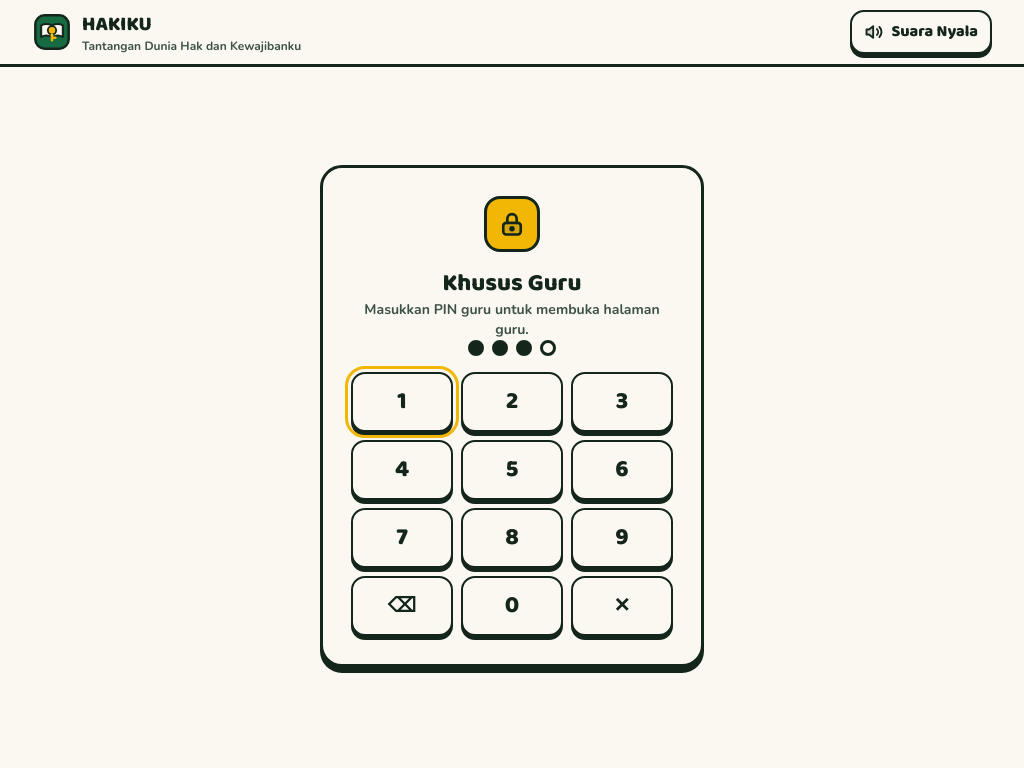
Aplikasi HAKIKU hybrid › halaman guru terkunci PIN: PIN salah ditolak, PIN benar membuka daftar tantangan
Earlier steps of the test are not shown.
Click the button "1". click: x=402, y=402
box: [351,372,453,432]
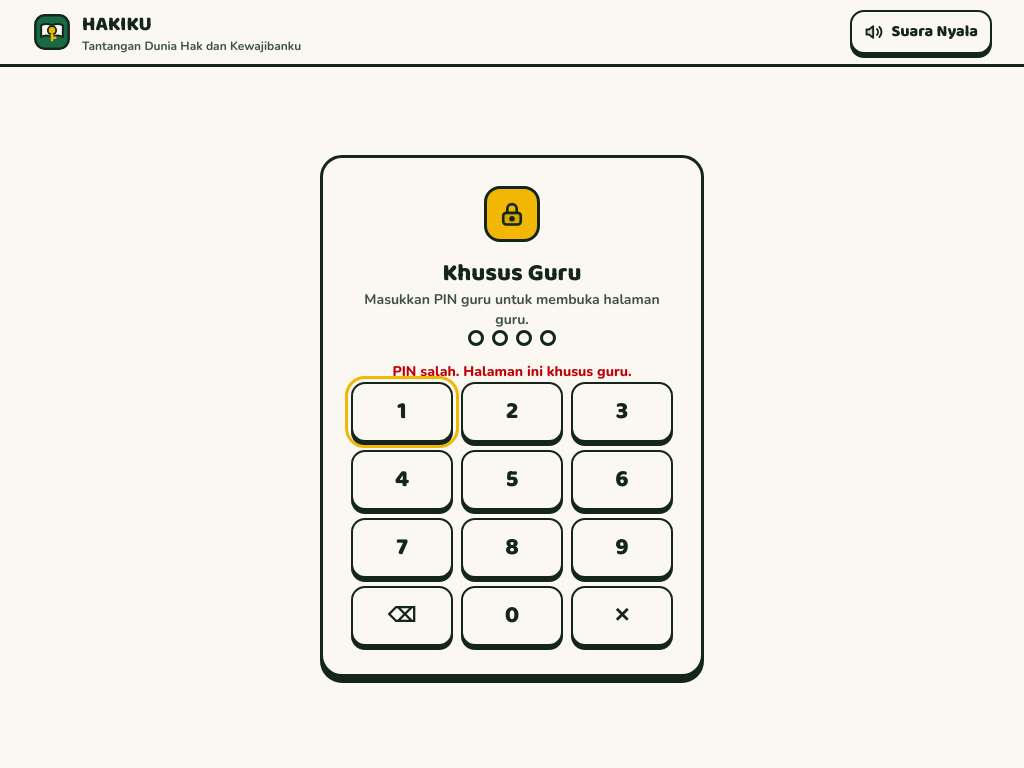
Check: the message shows "PIN salah", box [392,362,632,381]
Click the button "8". click: x=512, y=548
box: [461,518,563,578]
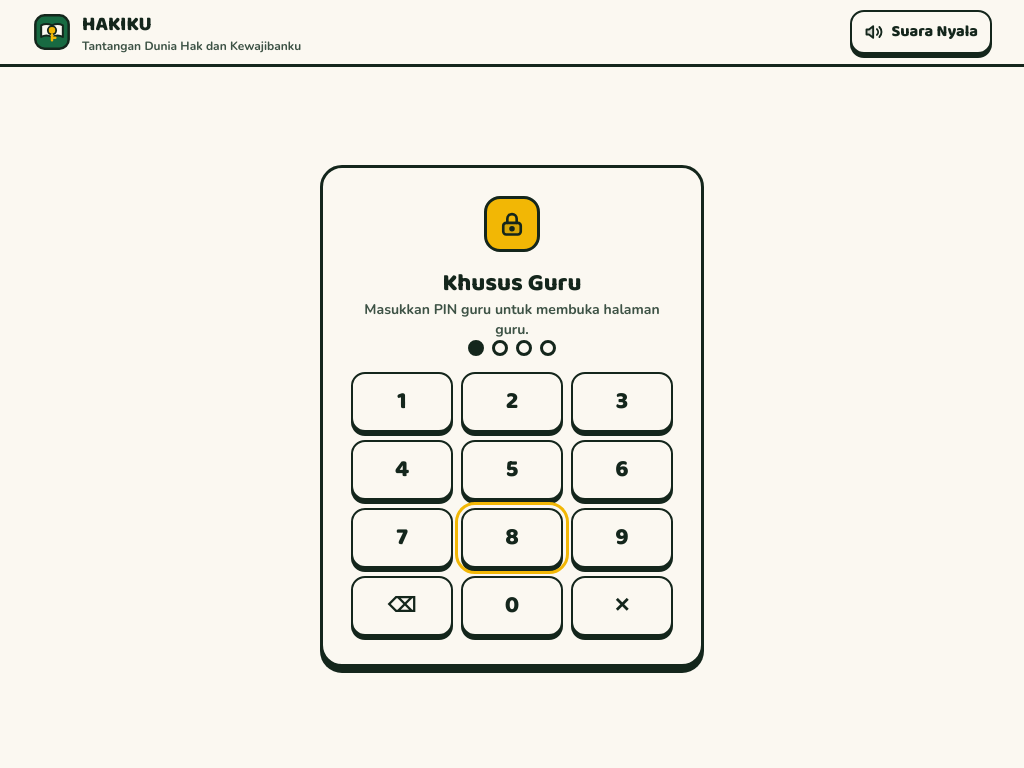
Click the button "2". click: x=512, y=402
box: [461,372,563,432]
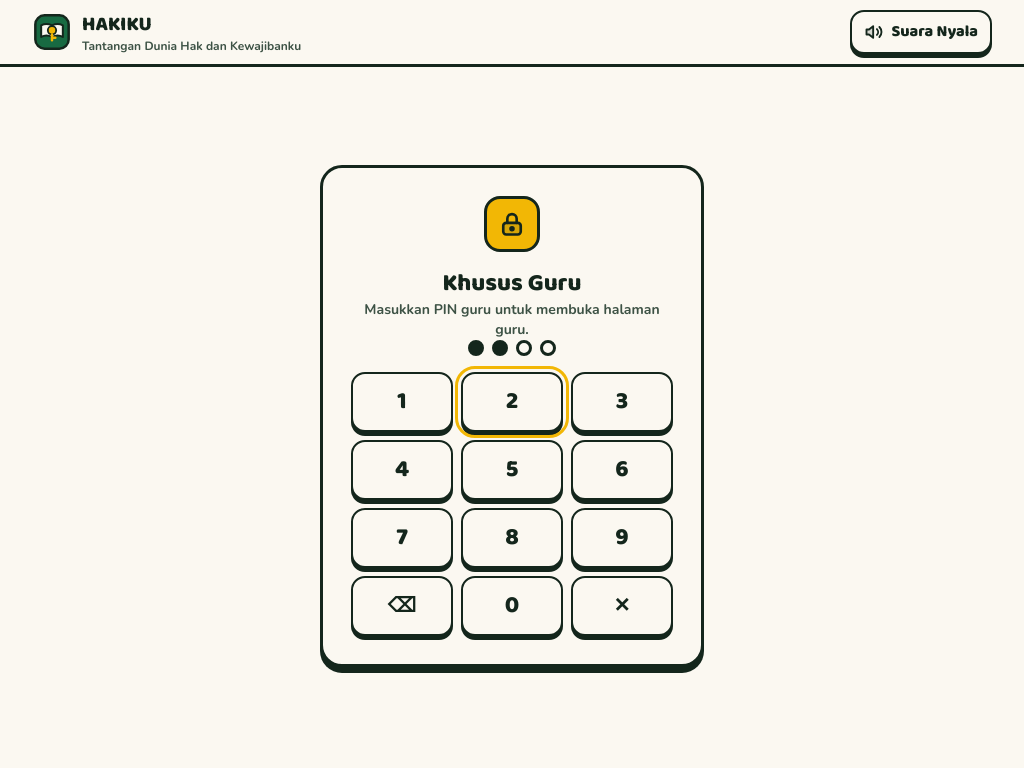
Click the button "6". click: x=622, y=470
box: [571,440,673,500]
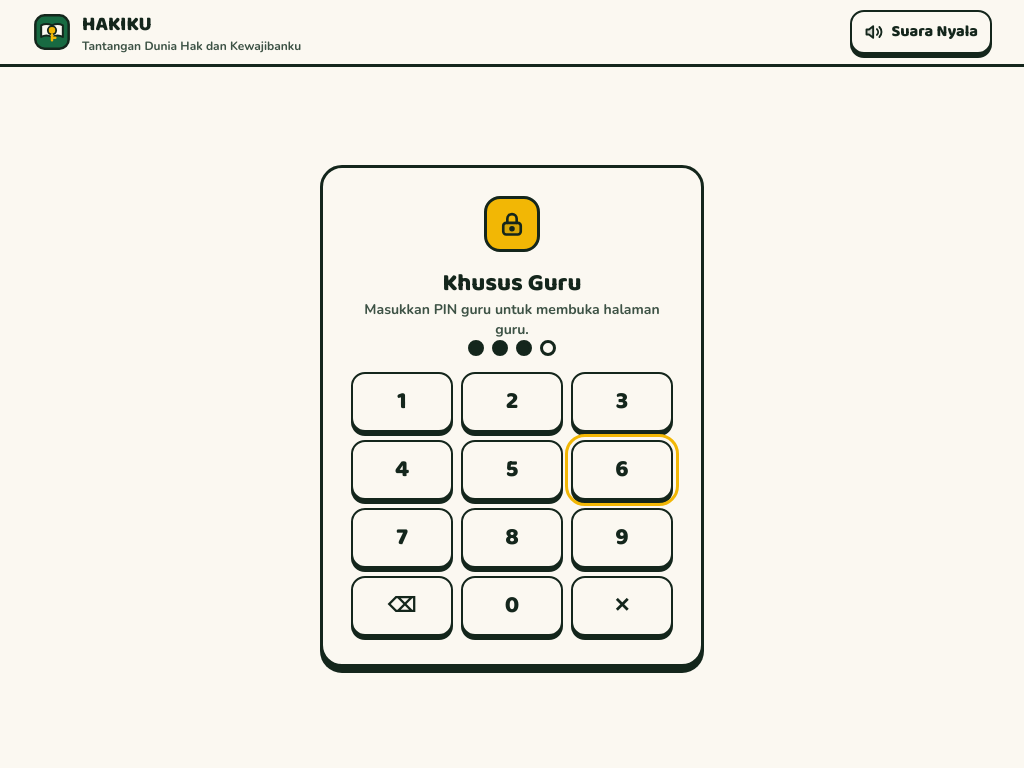
Click the button "4". click: x=402, y=470
box: [351,440,453,500]
(page scrolled)
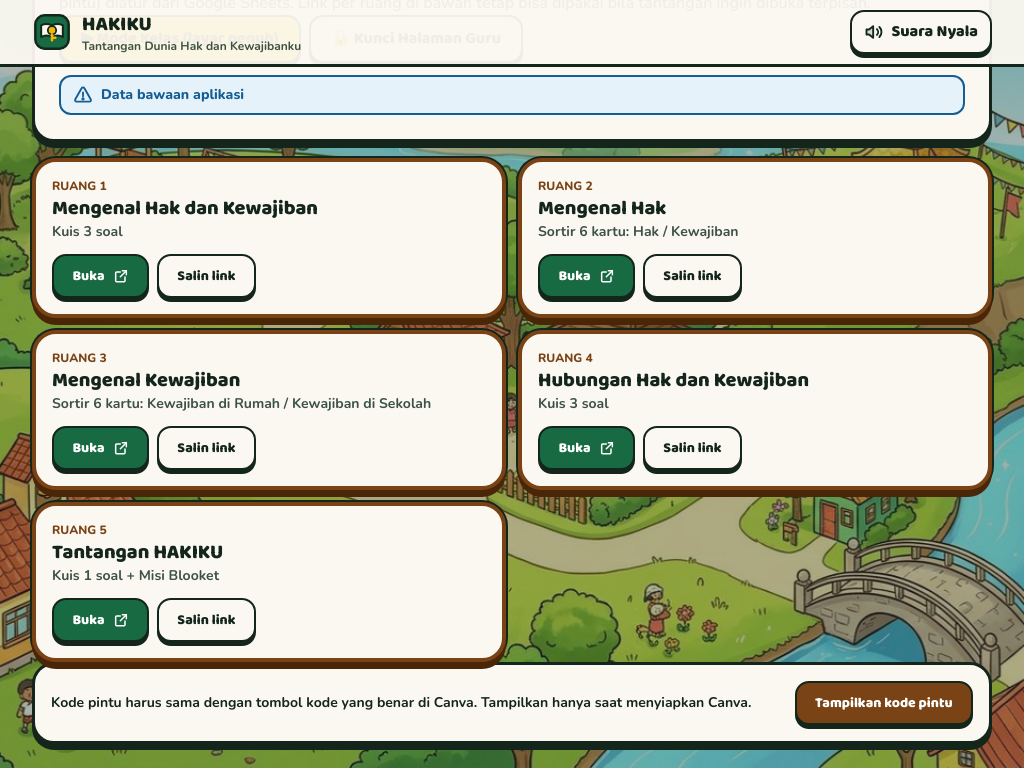
Check: the text "274" is not shown
Check: the number of links "Buka" is 5, box [52,254,149,298]; [538,254,635,298]; [52,426,149,470]; [538,426,635,470]; [52,598,149,642]
Click the button "Tampilkan kode pintu". click: x=884, y=703
box: [794,681,973,725]
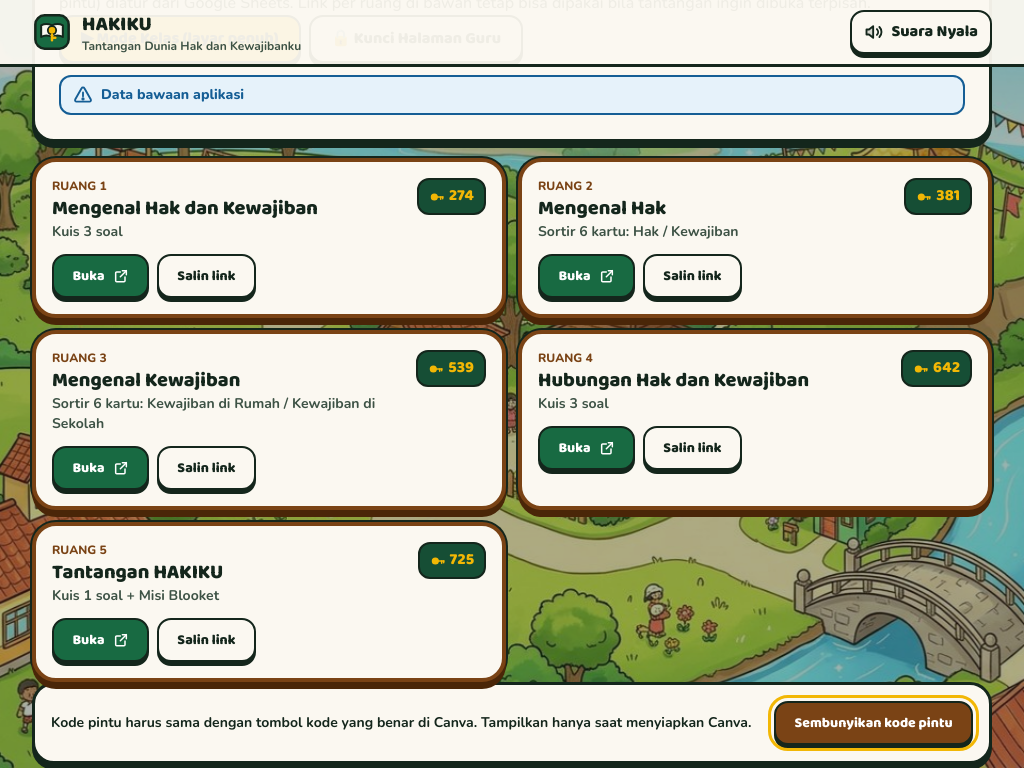
Check: the text "274" is shown, box [417,178,486,215]
